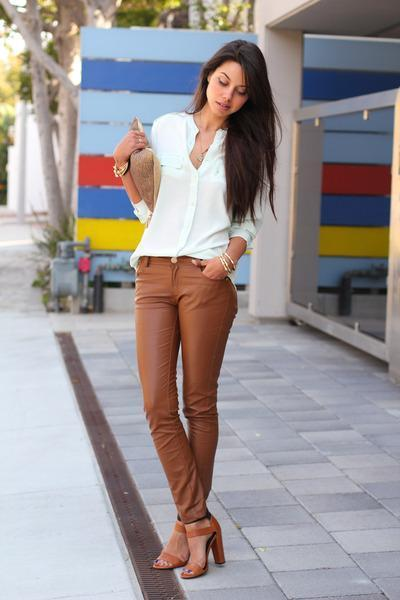bag: (128, 133, 161, 200)
pants: (136, 255, 245, 539)
shirt: (132, 113, 268, 259)
shoe: (173, 512, 224, 599)
